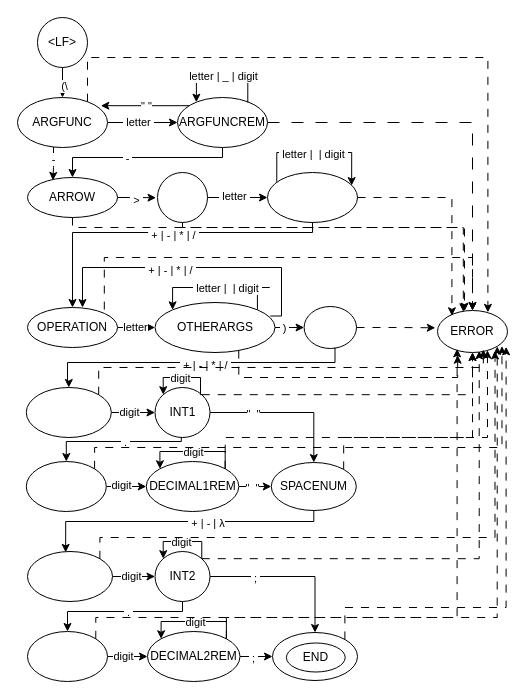
This 532x699 diagram has some shape labels left out. Each missing label, with the centre of its shape:
"ARG1" goes at pixel 182 197.
"ARG1REM" goes at pixel 312 197.
"CLOSE" goes at pixel 329 327.
"DECIMAL1" goes at pixel 65 486.
"DECIMAL2" goes at pixel 67 656.
"NUMBER1" goes at pixel 68 412.
"NUMBER2" goes at pixel 69 576.
